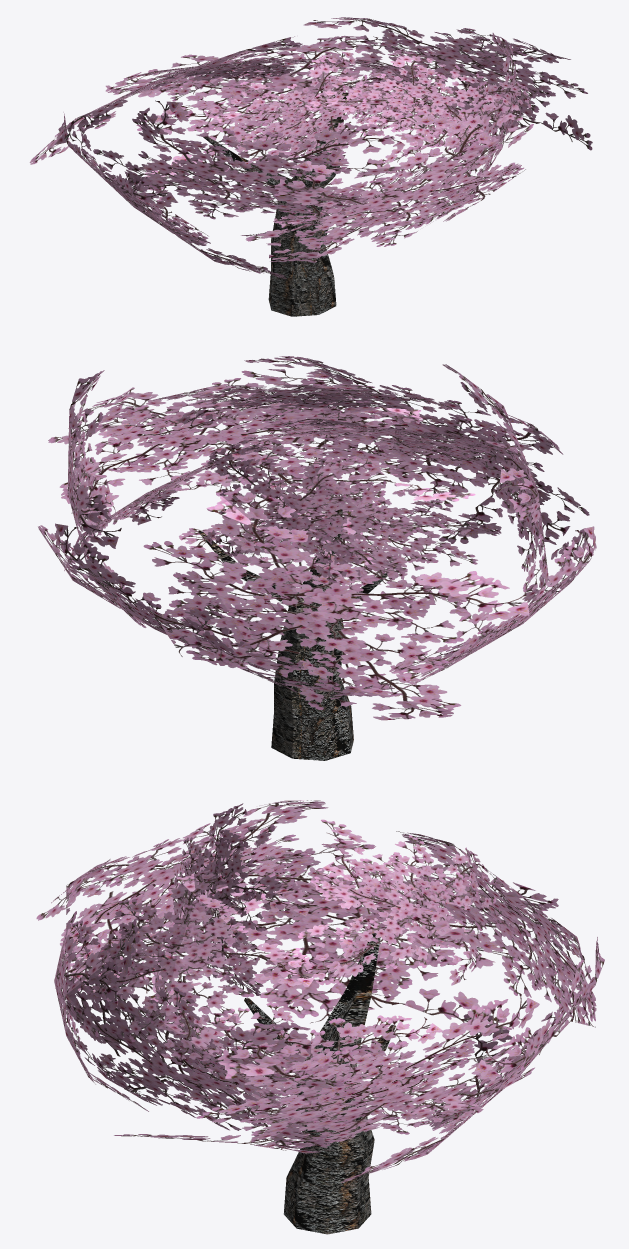
The model's file is arbol-rosa.fbx.
3 renders of one model, top to bottom at view 1: azimuth 30°, elevation 25°; view 2: azimuth 150°, elevation 25°; view 3: azimuth 270°, elevation 25°, orthographic. The views are drawn at different scales.
Parts seen in each view (by area): view 1: rosa; view 2: rosa; view 3: rosa.
Part boxes in pixels (x1,y1,x2,y2): rosa: (29, 17, 592, 316); rosa: (38, 356, 596, 760); rosa: (36, 800, 604, 1234).
Bounding box in the file's own units: 22.02 × 18.1 × 11.37.
